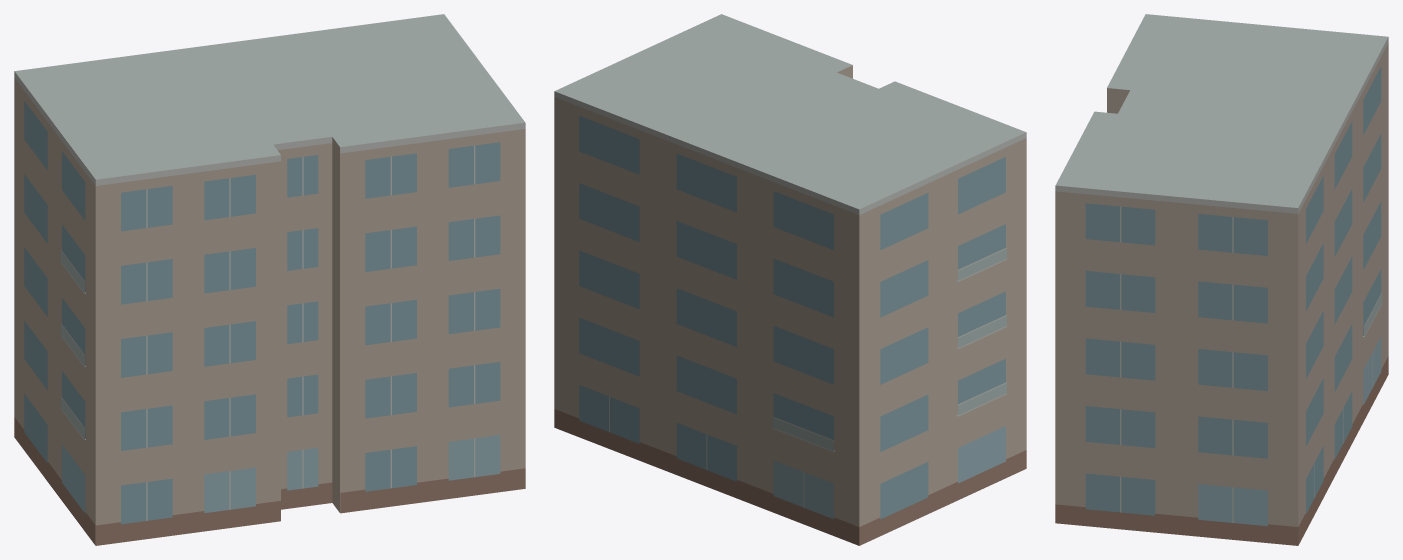
The model's file is survey-upis-32796727.glb.
3 renders of one model, left to right at view 1: azimuth 30°, elevation 25°; view 2: azimuth 150°, elevation 25°; view 3: azimuth 270°, elevation 25°, orthographic. The views are drawn at different scales.
Parts seen in each view (by area): view 1: survey-upis-32796727.tmp; view 2: survey-upis-32796727.tmp; view 3: survey-upis-32796727.tmp.
Boxes of the visible parts, x1,y1,x2,y2 form: survey-upis-32796727.tmp: [14, 14, 525, 545]; survey-upis-32796727.tmp: [554, 14, 1026, 545]; survey-upis-32796727.tmp: [1055, 14, 1388, 545].
Size of the model in its own units: 17.63 by 14.3 by 12.79.
